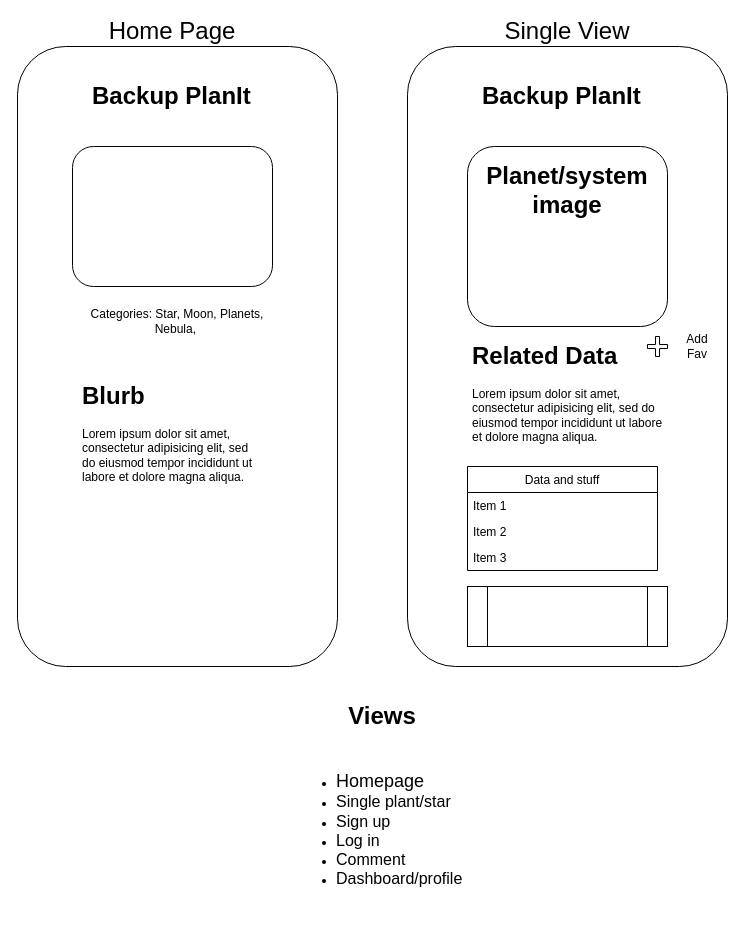
This 745x934 diagram has some shape labels left out. Each missing label, with the centre of its shape:
"Comments here" goes at [567,616].
"Picture of the day" goes at [172,216].
